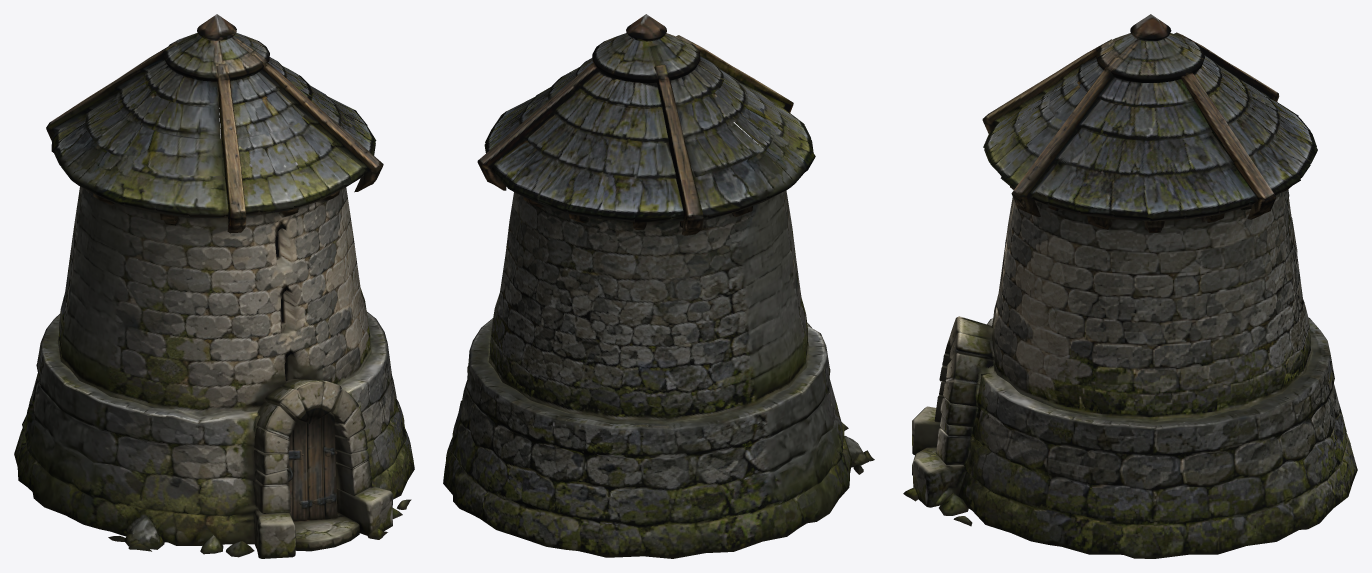
Rendered from act1_kit_v1_ossuary_tower.glb.
The picture shows the model from 3 angles, left to right: view 1: azimuth 30°, elevation 25°; view 2: azimuth 150°, elevation 25°; view 3: azimuth 270°, elevation 25°; orthographic projection. The views are drawn at different scales.
Visible parts, largest first — view 1: act1_kit_v1_ossuary_tower; view 2: act1_kit_v1_ossuary_tower; view 3: act1_kit_v1_ossuary_tower.
Part boxes in pixels (x1,y1,x2,y2): act1_kit_v1_ossuary_tower: [14, 14, 414, 558]; act1_kit_v1_ossuary_tower: [443, 14, 874, 558]; act1_kit_v1_ossuary_tower: [903, 14, 1357, 558].
Bounding box in the file's own units: 0.8119 × 1 × 0.8963.
1 material, 1 textured.
